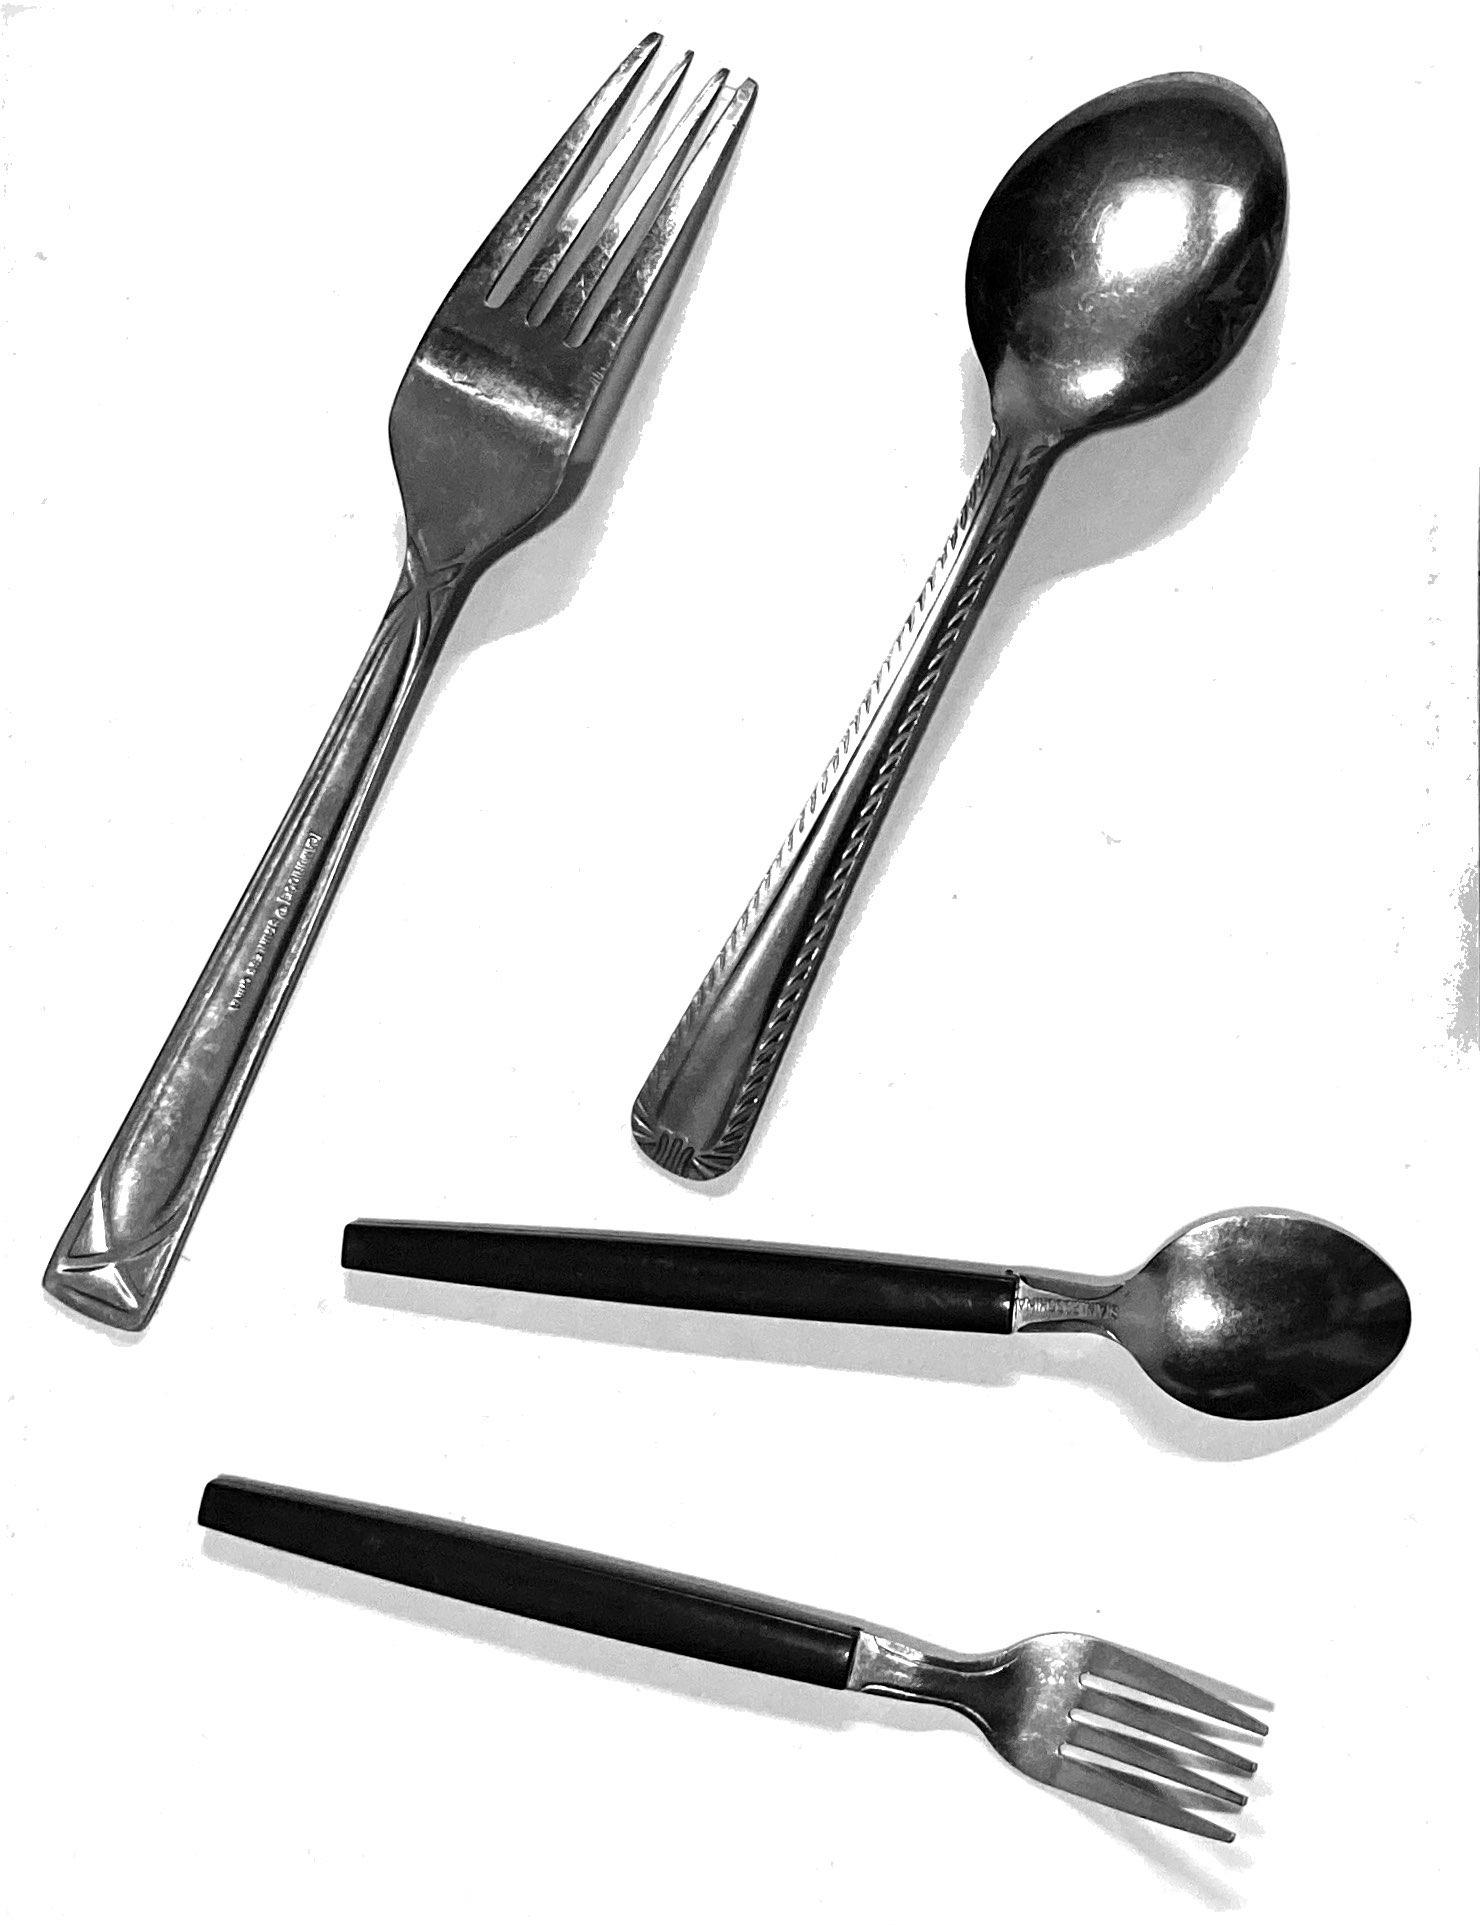Fork: (16, 17, 777, 1362), (174, 1441, 1314, 1866)
Spoon: (595, 59, 1345, 1183), (323, 1176, 1446, 1434)
